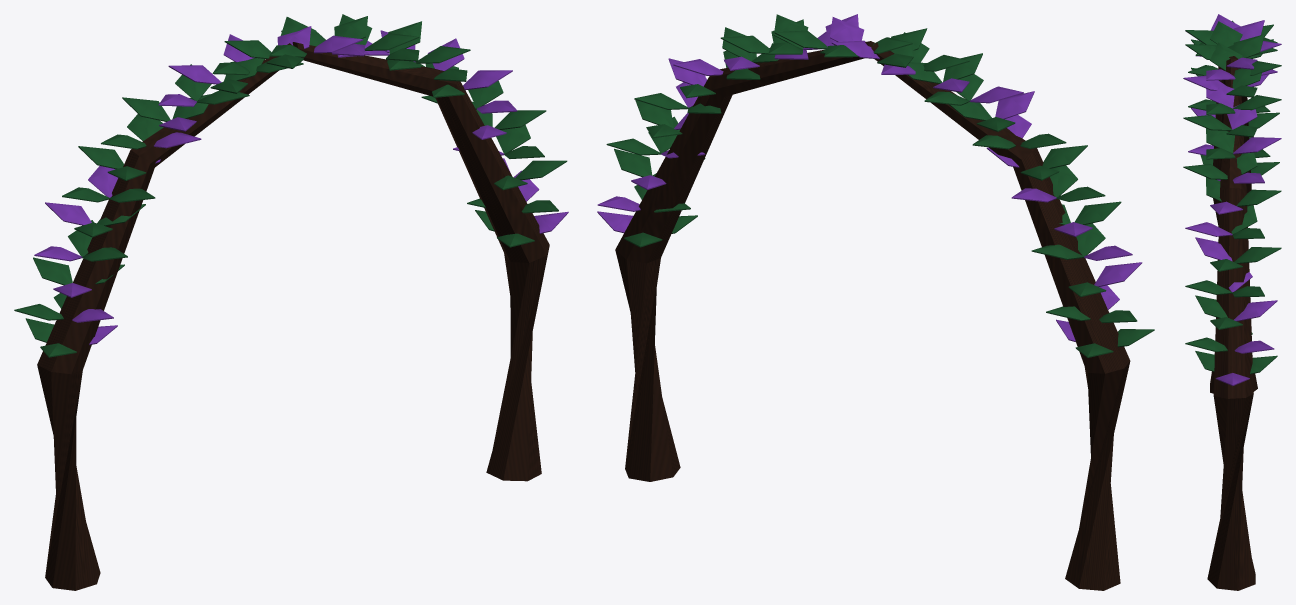
The model's file is Arco_do_jardim_LOD0.fbx.
The picture shows the model from 3 angles, left to right: view 1: azimuth 30°, elevation 25°; view 2: azimuth 150°, elevation 25°; view 3: azimuth 270°, elevation 25°; orthographic projection. The views are drawn at different scales.
Visible parts, largest first — view 1: Arco_do_jardim_LOD0; view 2: Arco_do_jardim_LOD0; view 3: Arco_do_jardim_LOD0.
Part boxes in pixels (bbox=[...]): Arco_do_jardim_LOD0: bbox=[14, 14, 568, 590]; Arco_do_jardim_LOD0: bbox=[597, 14, 1154, 590]; Arco_do_jardim_LOD0: bbox=[1183, 14, 1281, 590].
Size of the model in its own units: 397 by 337 by 69.73.
1 material, 1 textured.
